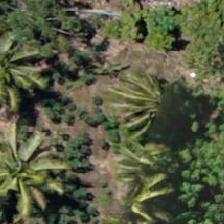coconut_tree: (103, 63, 193, 153), (0, 133, 70, 223), (94, 166, 184, 223)
